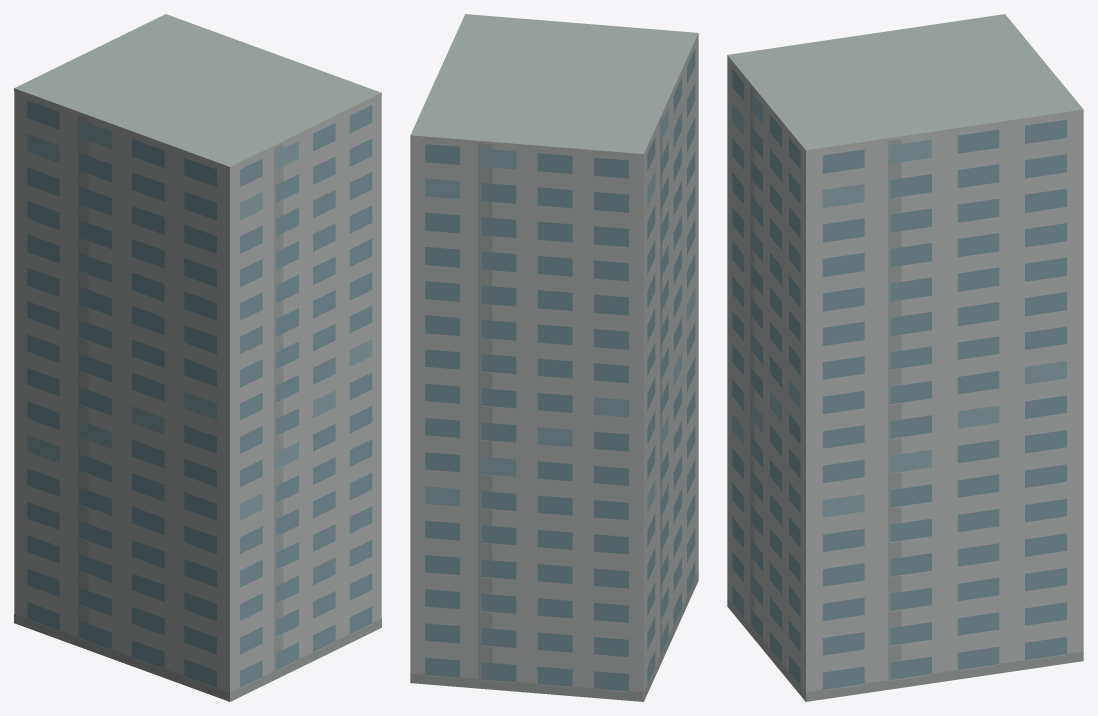
The model's file is residential-e3e5a557-3cb4-4a5b-9340-627c8614c010.glb.
The picture shows the model from 3 angles, left to right: view 1: azimuth 30°, elevation 25°; view 2: azimuth 150°, elevation 25°; view 3: azimuth 270°, elevation 25°; orthographic projection. The views are drawn at different scales.
Parts seen in each view (by area): view 1: residential-e3e5a557-3cb4-4a5b-9340-627c8614c010.tmp; view 2: residential-e3e5a557-3cb4-4a5b-9340-627c8614c010.tmp; view 3: residential-e3e5a557-3cb4-4a5b-9340-627c8614c010.tmp.
Boxes of the visible parts, x1=… form: residential-e3e5a557-3cb4-4a5b-9340-627c8614c010.tmp: x1=14, y1=14, x2=381, y2=701; residential-e3e5a557-3cb4-4a5b-9340-627c8614c010.tmp: x1=410, y1=14, x2=698, y2=701; residential-e3e5a557-3cb4-4a5b-9340-627c8614c010.tmp: x1=727, y1=14, x2=1083, y2=701.
Bounding box in the file's own units: 26.52 × 50 × 29.29.
